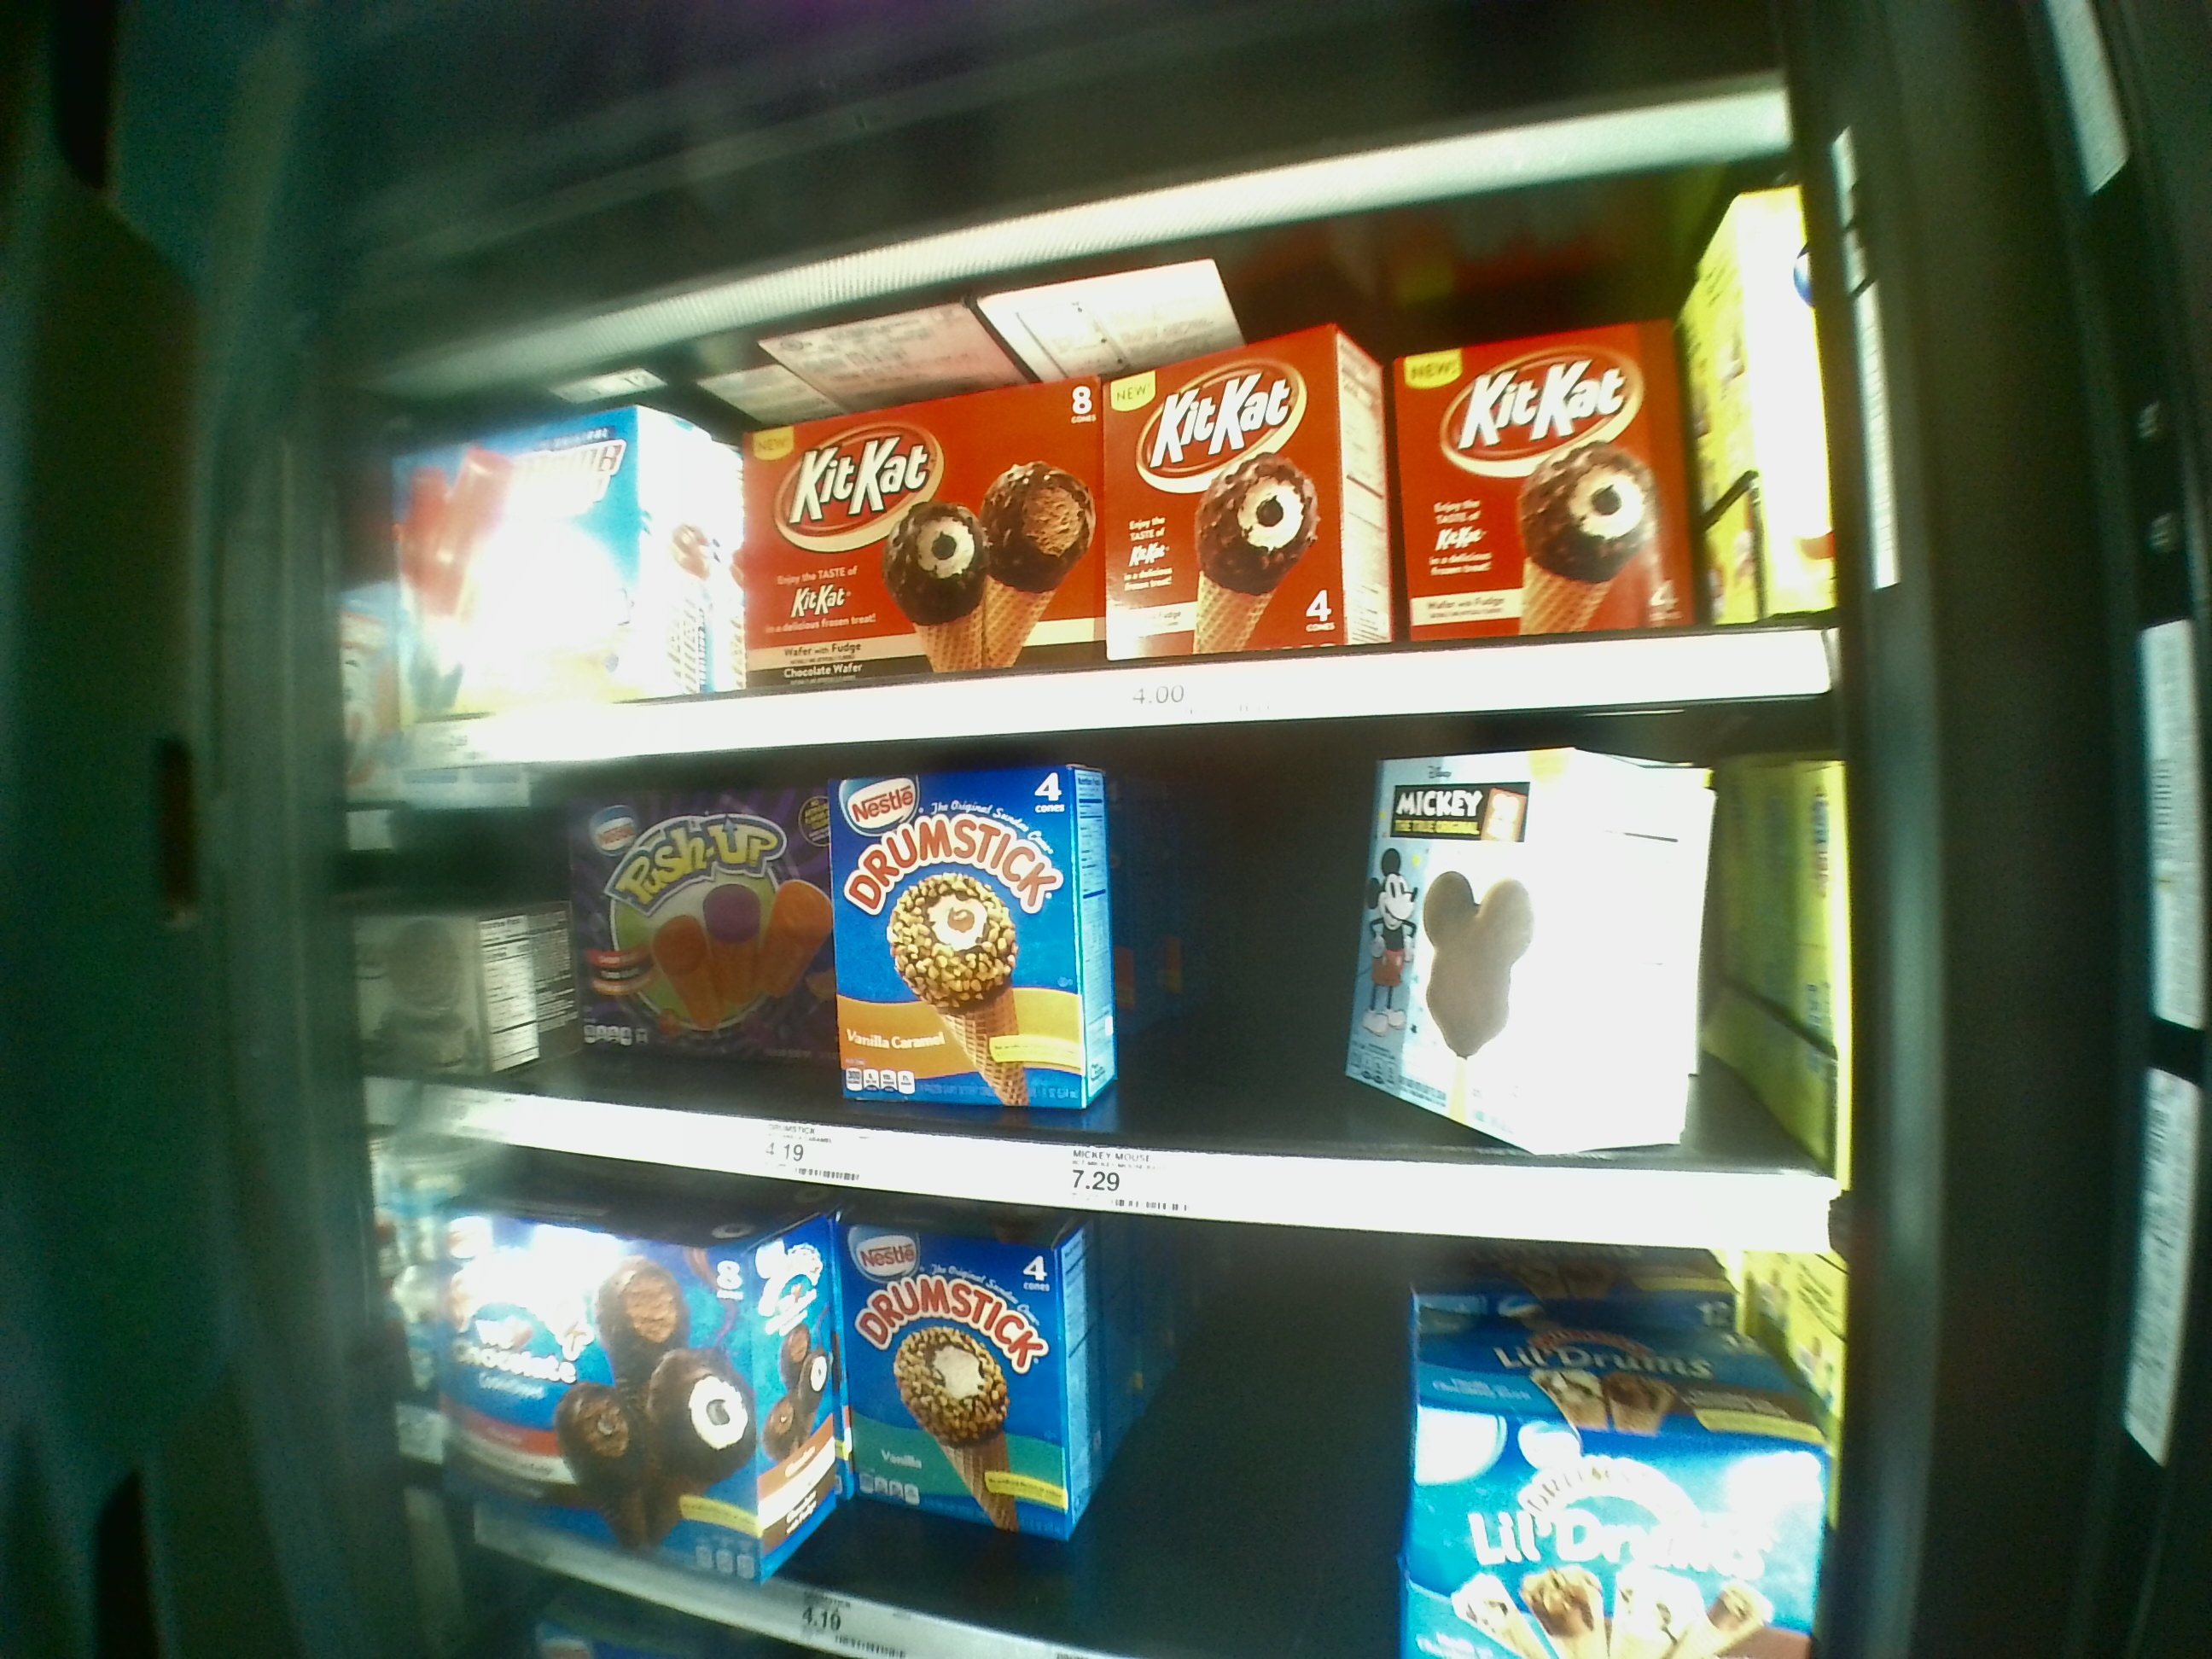shelf: (371, 209, 1844, 711), (381, 714, 1846, 1204), (434, 1162, 1841, 1659)
